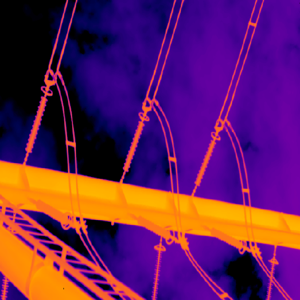insulator: (23, 95, 47, 153), (194, 138, 216, 185), (135, 212, 170, 241), (123, 119, 142, 171), (32, 196, 67, 223), (210, 226, 244, 249)
